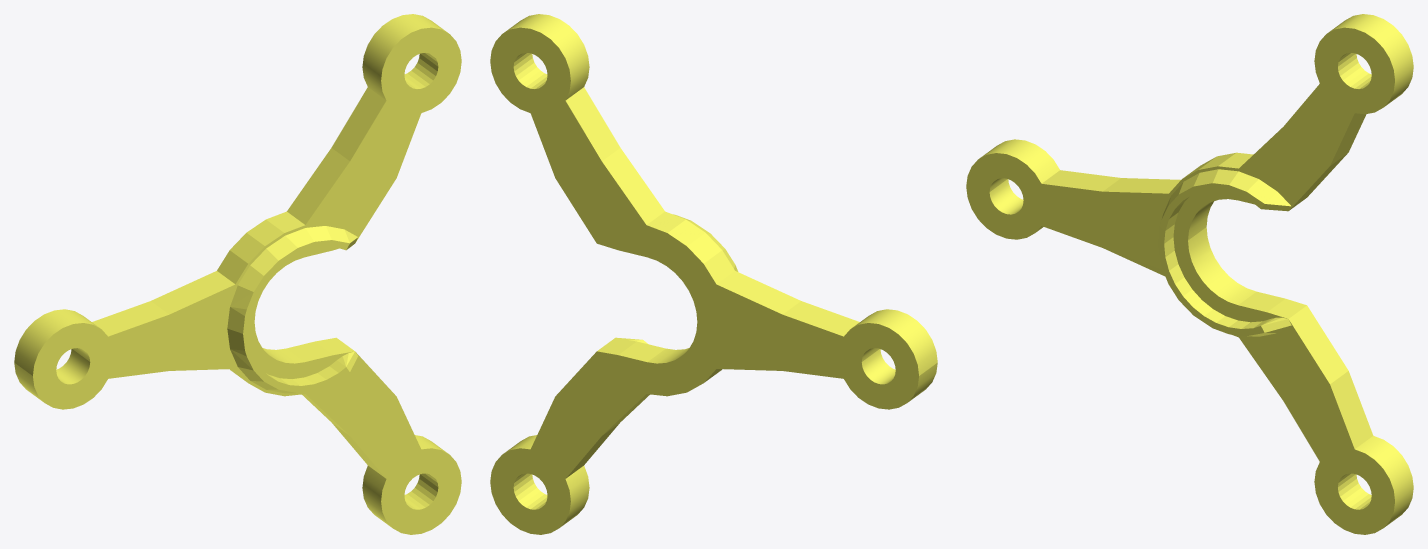
File: Groovemount Clip.obj
The picture shows the model from 3 angles, left to right: view 1: azimuth 30°, elevation 25°; view 2: azimuth 150°, elevation 25°; view 3: azimuth 330°, elevation 25°; orthographic projection.
Visible parts, largest first — view 1: Mesh1 Model; view 2: Mesh1 Model; view 3: Mesh1 Model.
Part boxes in pixels (x1,y1,x2,y2): Mesh1 Model: (14, 14, 461, 534); Mesh1 Model: (490, 14, 937, 534); Mesh1 Model: (966, 14, 1413, 534).
Bounding box in the file's own units: 53.11 × 59.76 × 6.
